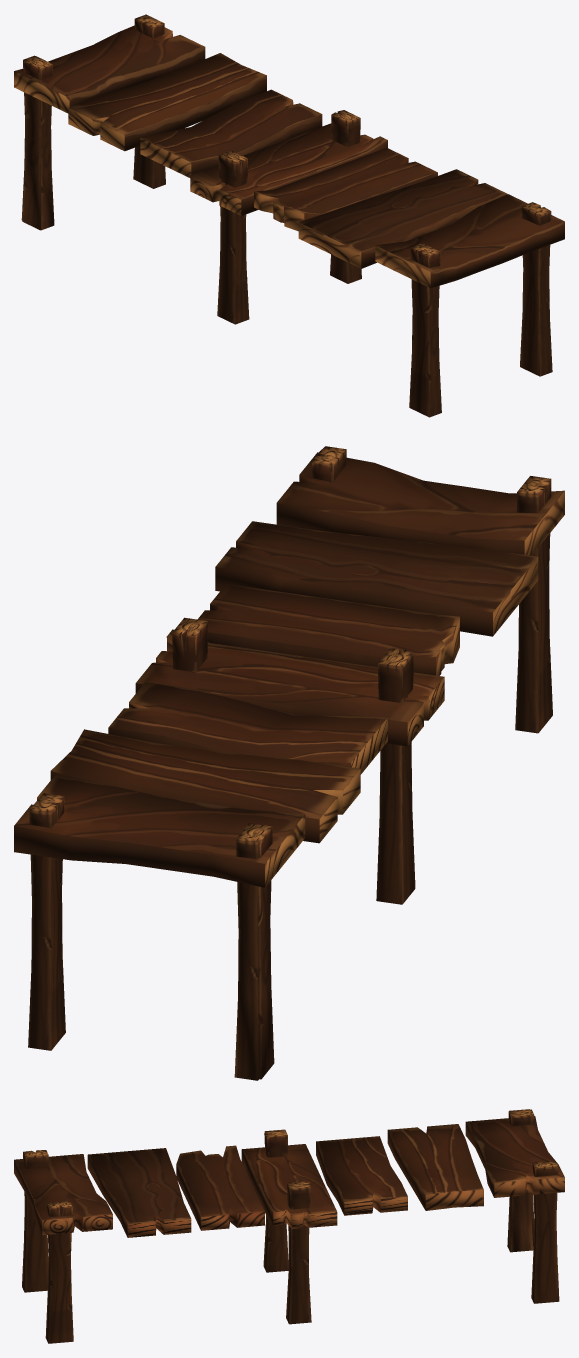
Rendered from cau.fbx.
3 views of the same model, one above another, from view 1: azimuth 30°, elevation 25°; view 2: azimuth 150°, elevation 25°; view 3: azimuth 270°, elevation 25° (orthographic). The views are drawn at different scales.
Visible parts, largest first — view 1: cau go; view 2: cau go; view 3: cau go.
Part boxes in pixels (left/top/right/bottom): cau go: left=14, top=14, right=564, bottom=417; cau go: left=14, top=446, right=564, bottom=1080; cau go: left=14, top=1109, right=564, bottom=1343.
Bounding box in the file's own units: 758 × 452 × 1669.
1 material, 1 textured.
